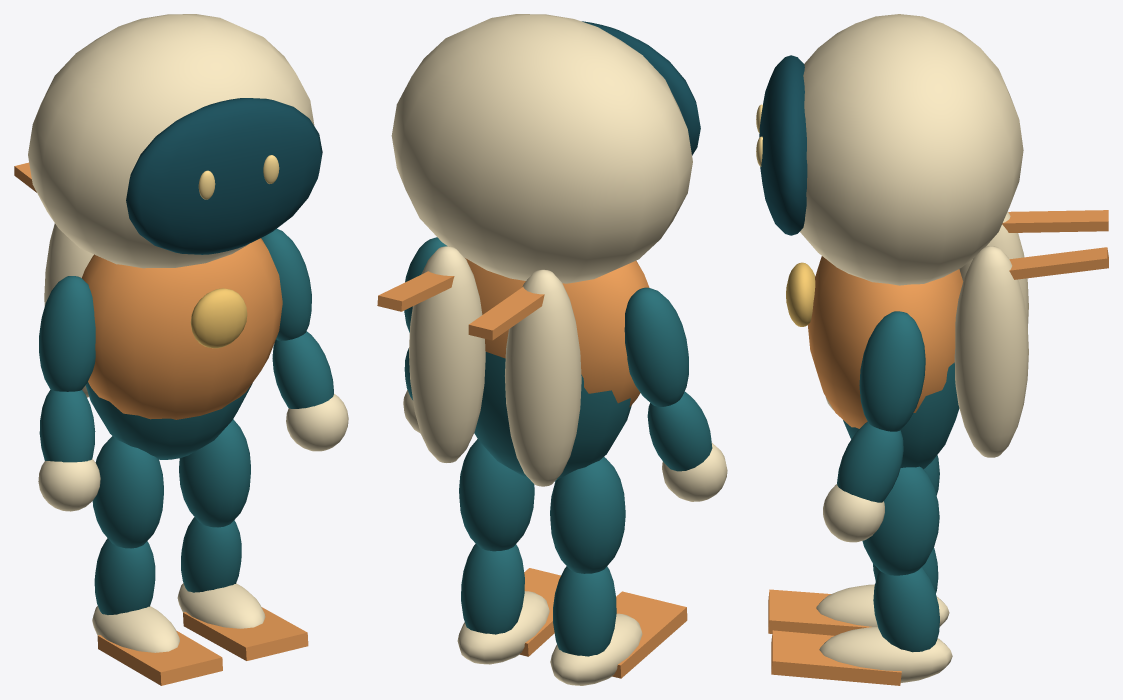
File: diver.gltf
3 views of the same model, side by side, from view 1: azimuth 30°, elevation 25°; view 2: azimuth 150°, elevation 25°; view 3: azimuth 270°, elevation 25° (orthographic). The views are drawn at different scales.
Parts seen in each view (by area): view 1: Group (×11); view 2: Group (×11); view 3: Group (×7).
Boxes of the visible parts, left/top/right/bottom form: Group (×11): left=14, top=14, right=348, bottom=685; Group (×11): left=377, top=14, right=727, bottom=685; Group (×7): left=756, top=14, right=1108, bottom=685.
Size of the model in its own units: 1.32 by 2.57 by 1.31.
